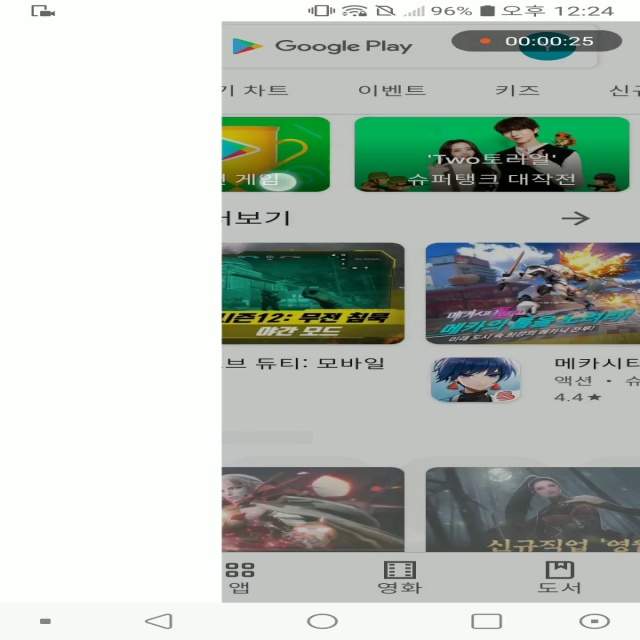Cursor: (256, 172, 300, 194)
